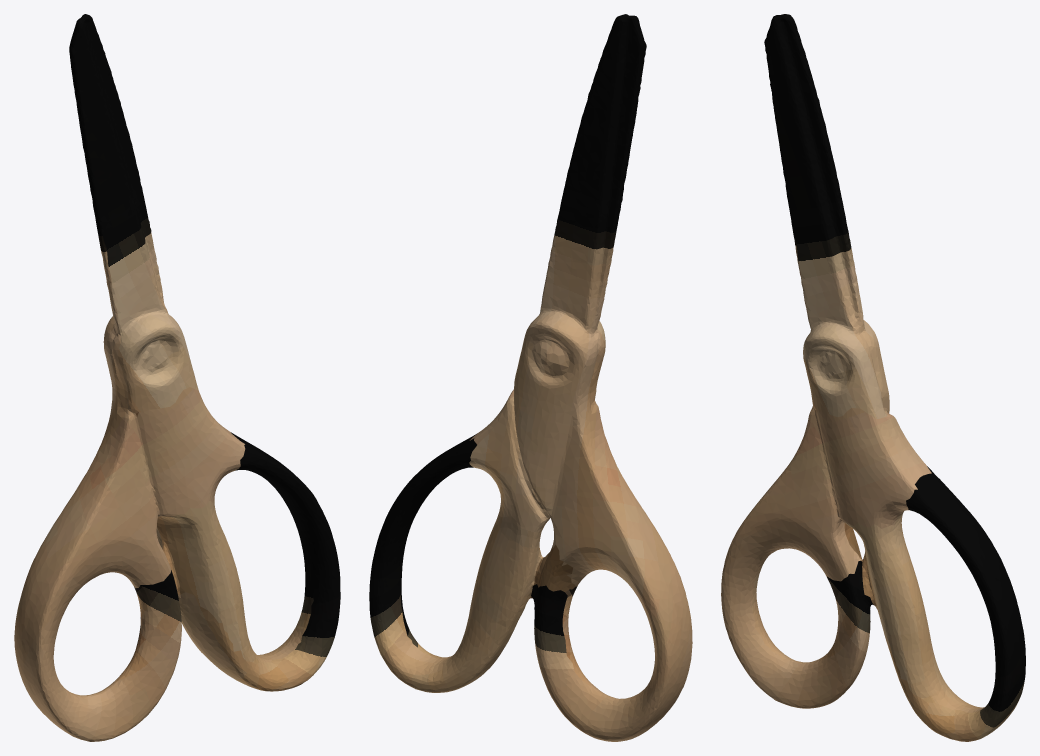
3 views of the same model, side by side, from view 1: azimuth 30°, elevation 25°; view 2: azimuth 150°, elevation 25°; view 3: azimuth 330°, elevation 25° (orthographic). The views are drawn at different scales.
Bounding box in the file's own units: 0.0879 × 0.1985 × 0.0157.
